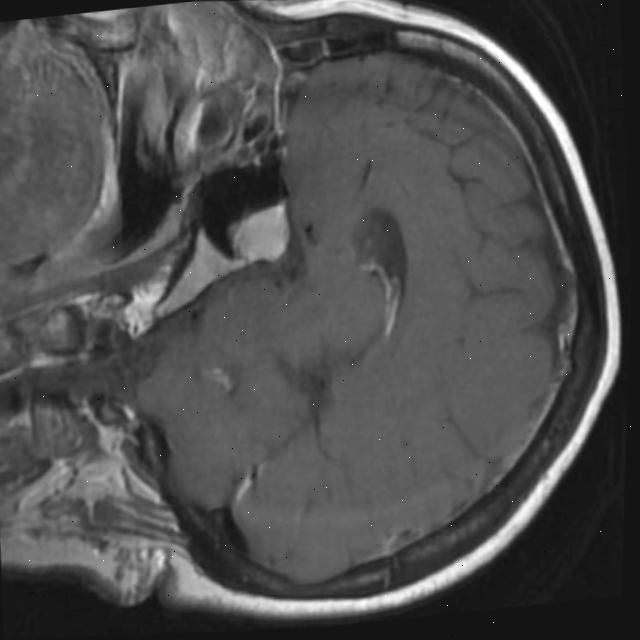Pituitary: (224, 200, 292, 268)
